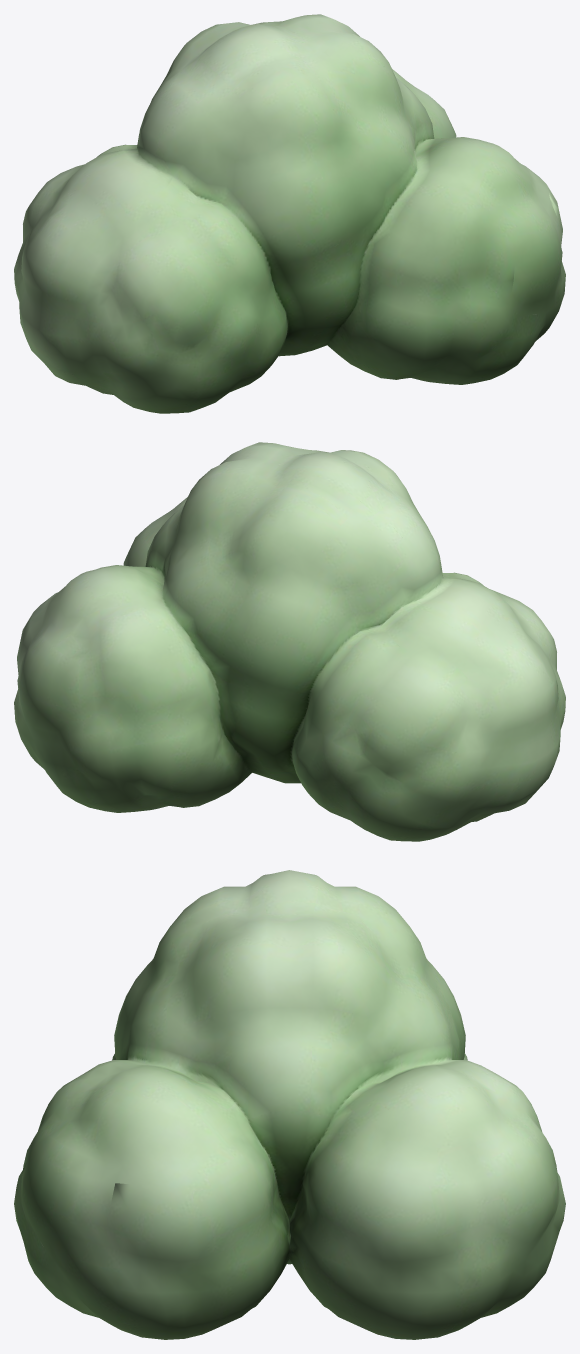
File: bush.glb
The picture shows the model from 3 angles, top to bottom: view 1: azimuth 30°, elevation 25°; view 2: azimuth 150°, elevation 25°; view 3: azimuth 270°, elevation 25°; orthographic projection. The views are drawn at different scales.
Parts seen in each view (by area): view 1: tripo_node_9cfd7fcf-d05c-4409-b721-eeed1c1cf3d2; view 2: tripo_node_9cfd7fcf-d05c-4409-b721-eeed1c1cf3d2; view 3: tripo_node_9cfd7fcf-d05c-4409-b721-eeed1c1cf3d2.
Boxes of the visible parts, x1,y1,x2,y2 form: tripo_node_9cfd7fcf-d05c-4409-b721-eeed1c1cf3d2: [14, 14, 565, 413]; tripo_node_9cfd7fcf-d05c-4409-b721-eeed1c1cf3d2: [14, 442, 565, 841]; tripo_node_9cfd7fcf-d05c-4409-b721-eeed1c1cf3d2: [14, 870, 565, 1339].
Size of the model in its own units: 0.9978 by 0.658 by 0.904.
Materials: 1 (1 with a texture image).
